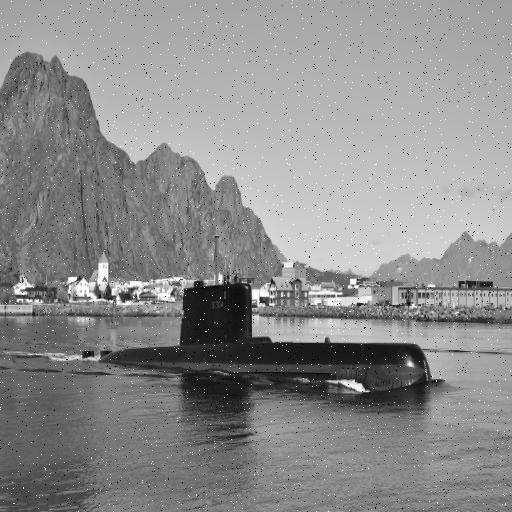submarine: (81, 232, 438, 393)
